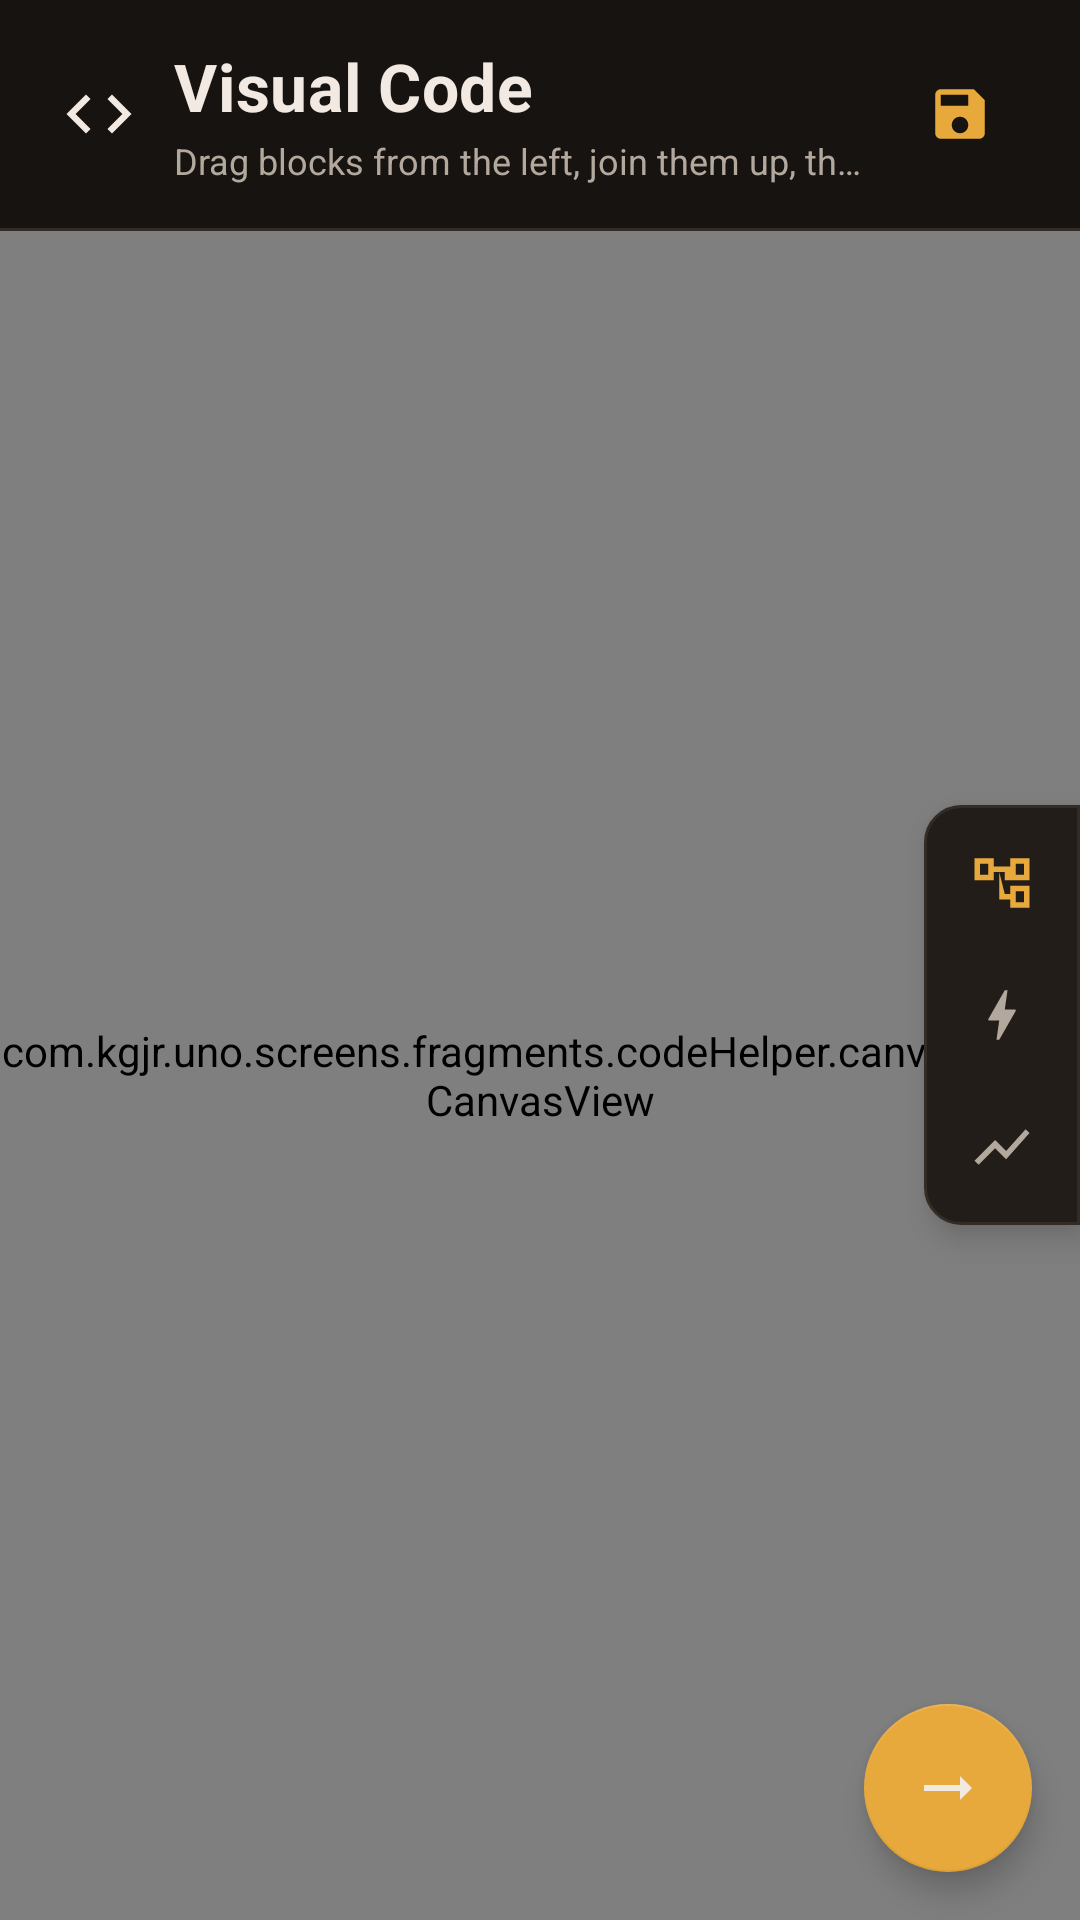

Named icons in this screenshot (1080*1920) and their centers, point (x, y):
Continue to the run screen: point (948, 1788)
Data view: point (1001, 1147)
Flow canvas: point (1002, 883)
Save project: point (960, 114)
Triggers: point (1002, 1015)
